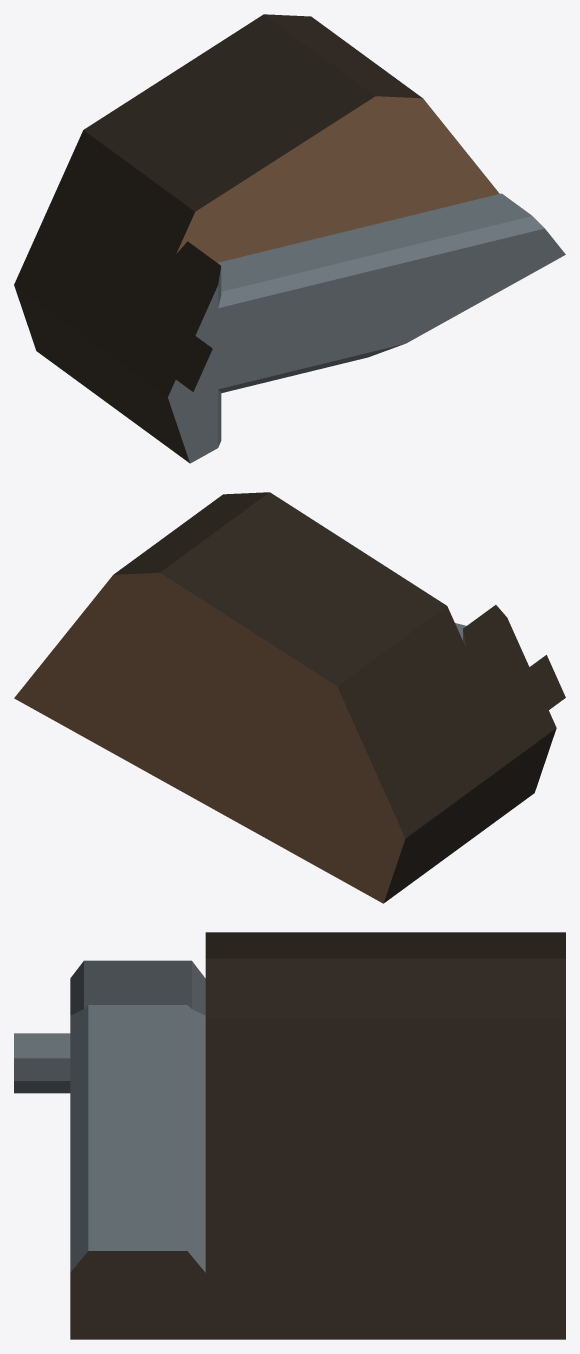
File: SM_DoorShard_01_06.fbx
3 renders of one model, top to bottom at view 1: azimuth 30°, elevation 25°; view 2: azimuth 150°, elevation 25°; view 3: azimuth 270°, elevation 25°, orthographic. The views are drawn at different scales.
Visible parts, largest first — view 1: SM_DoorShard_01_06; view 2: SM_DoorShard_01_06; view 3: SM_DoorShard_01_06.
Boxes of the visible parts, x1=… form: SM_DoorShard_01_06: x1=14, y1=14, x2=565, y2=463; SM_DoorShard_01_06: x1=14, y1=492, x2=565, y2=903; SM_DoorShard_01_06: x1=14, y1=932, x2=565, y2=1339.
Size of the model in its own units: 32.88 by 24.5 by 22.19.
